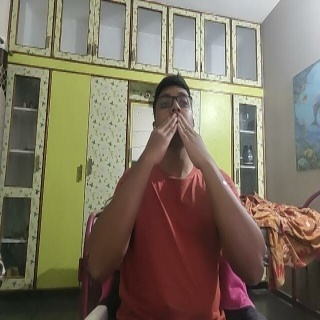Thank You: (136, 113, 220, 176)
